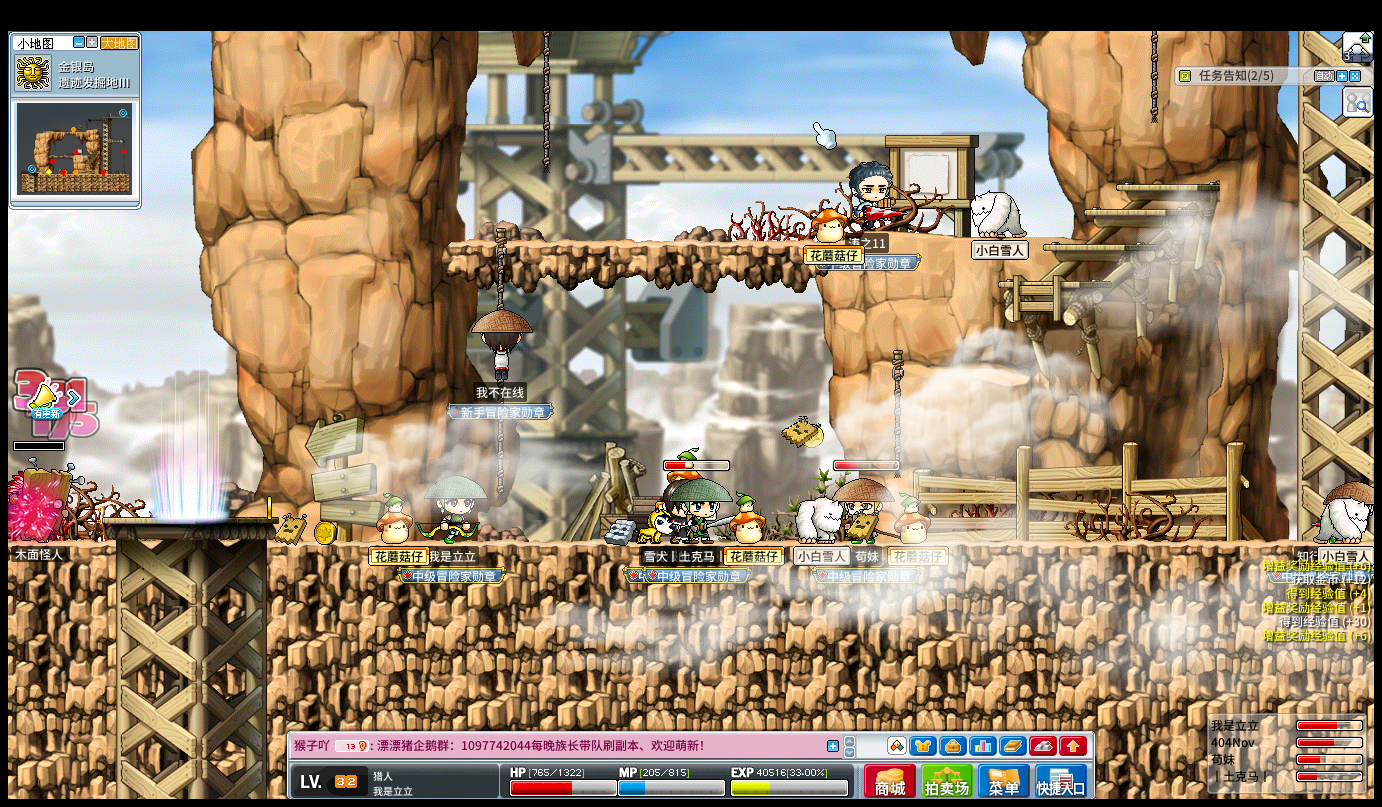floor: (266, 538, 1373, 551), (445, 237, 827, 249), (920, 366, 1031, 389), (103, 515, 284, 525), (9, 539, 115, 550), (995, 280, 1111, 289), (1079, 207, 1188, 215), (1114, 184, 1219, 192), (1041, 244, 1154, 250)
monster: (8, 457, 85, 542)
rope: (889, 351, 901, 477), (542, 30, 550, 174), (492, 227, 506, 308), (1148, 30, 1157, 124)
